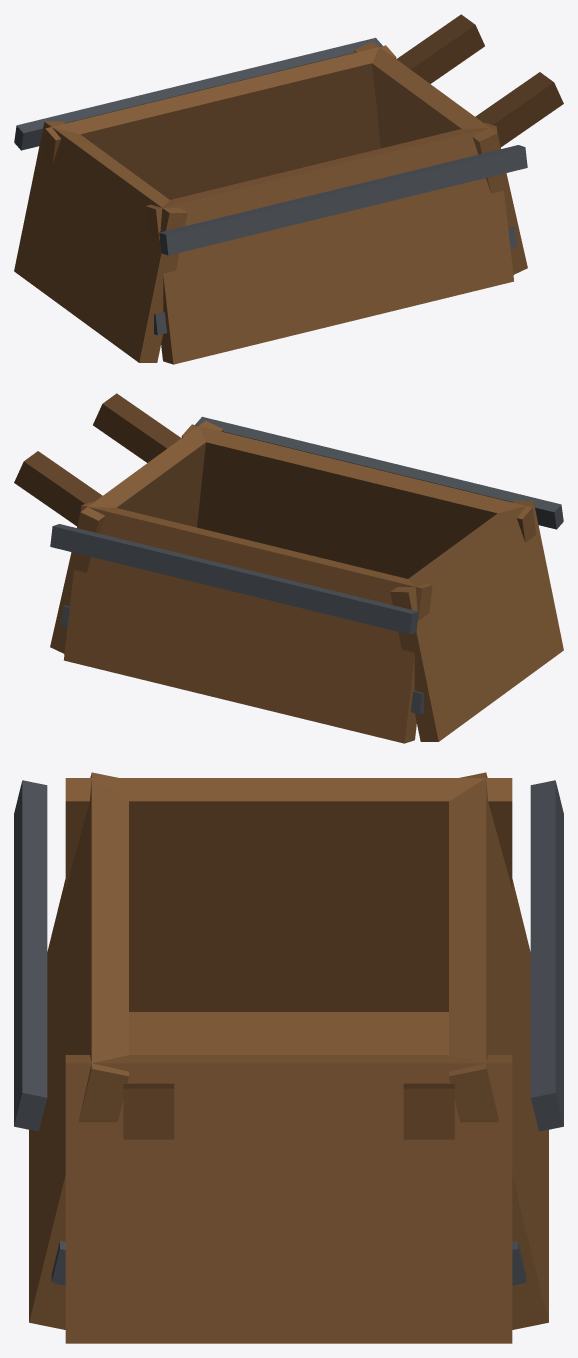
File: ind_tub.glb
3 views of the same model, one above another, from view 1: azimuth 30°, elevation 25°; view 2: azimuth 150°, elevation 25°; view 3: azimuth 270°, elevation 25° (orthographic). The views are drawn at different scales.
Parts seen in each view (by area): view 1: ind_tub; view 2: ind_tub; view 3: ind_tub.
Part boxes in pixels (x1=…): ind_tub: x1=14, y1=14, x2=563, y2=364; ind_tub: x1=14, y1=393, x2=563, y2=743; ind_tub: x1=14, y1=772, x2=563, y2=1343.
Bounding box in the file's own units: 0.1423 × 0.0518 × 0.0862.
